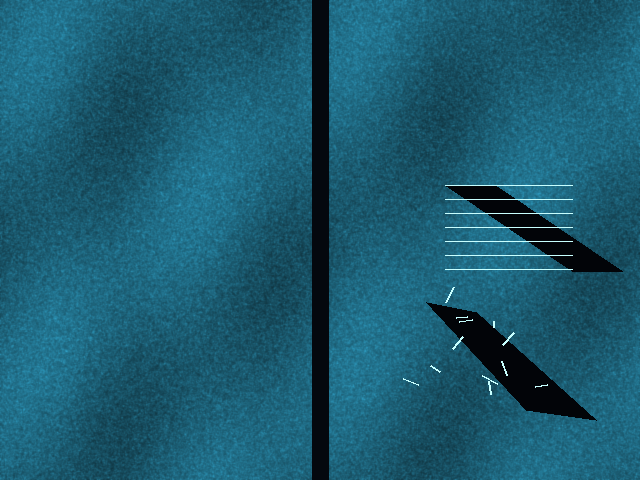Fishing Net: (445, 185, 572, 271)
Ghost Net: (416, 302, 536, 410)
